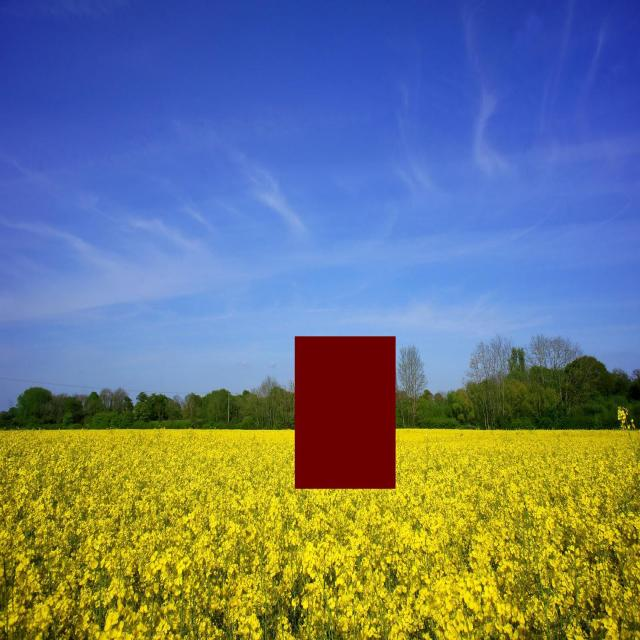RedSquare: (290, 324, 401, 492)
